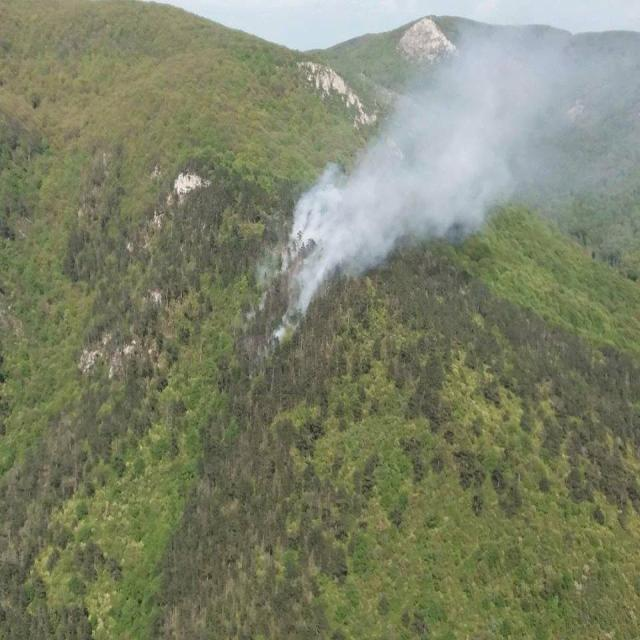Smoke: (294, 39, 640, 294)
